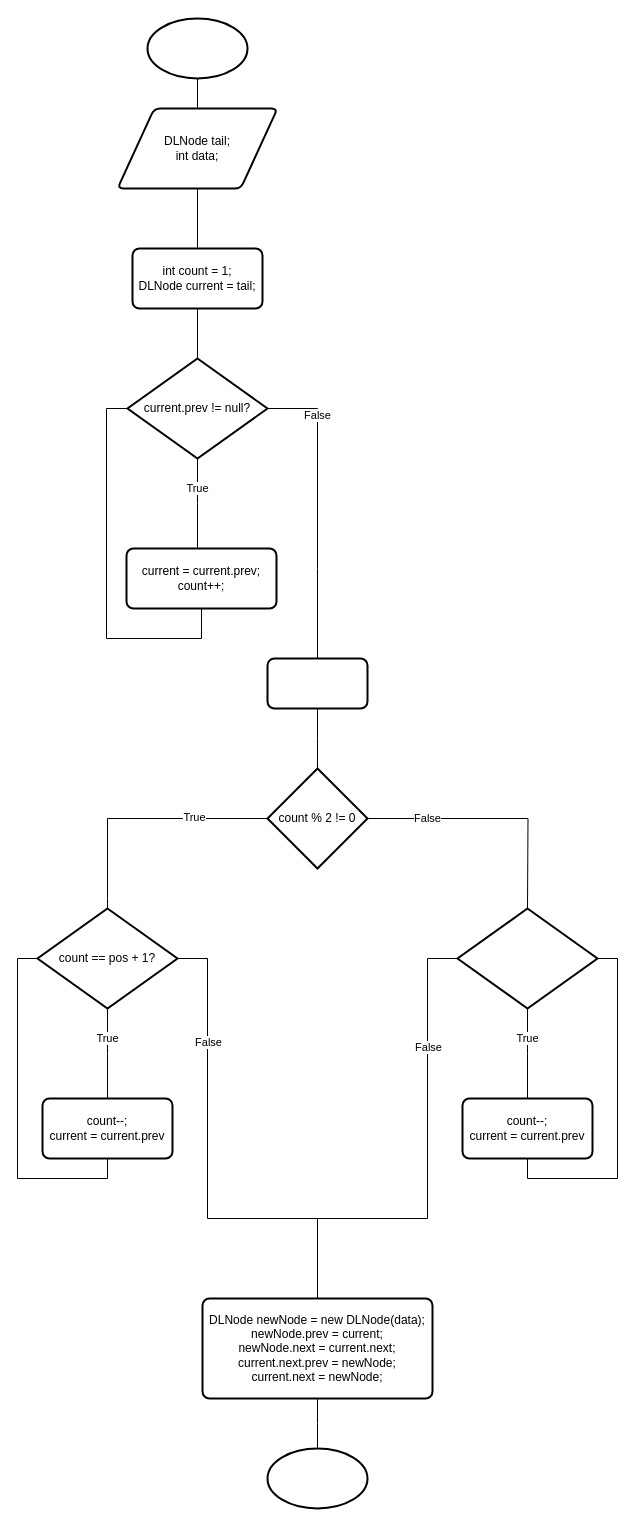
Image size: 636x1526. Some labels were removed from this diagram. Each missing label, with the centre of its shape:
count == pos?: pixel 527 958
End: pixel 317 1478
int pos = count/2; current = tail;: pixel 317 683
start: pixel 197 48
